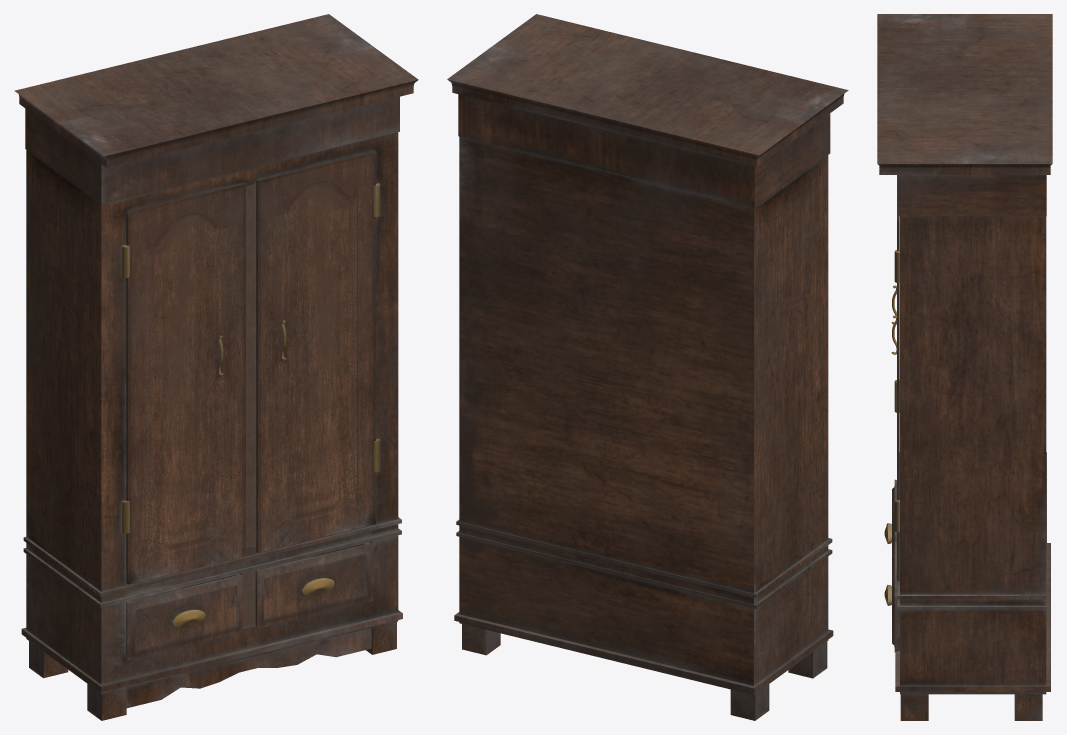
File: closet.gltf
3 renders of one model, left to right at view 1: azimuth 30°, elevation 25°; view 2: azimuth 150°, elevation 25°; view 3: azimuth 270°, elevation 25°, orthographic. The views are drawn at different scales.
Visible parts, largest first — view 1: D_TestMap_ClosetdrawerLeft4_lambert1_0; view 2: D_TestMap_ClosetdrawerLeft4_lambert1_0; view 3: D_TestMap_ClosetdrawerLeft4_lambert1_0.
Part boxes in pixels (left/top/right/bottom): D_TestMap_ClosetdrawerLeft4_lambert1_0: left=14, top=14, right=418, bottom=720; D_TestMap_ClosetdrawerLeft4_lambert1_0: left=447, top=14, right=848, bottom=720; D_TestMap_ClosetdrawerLeft4_lambert1_0: left=877, top=14, right=1052, bottom=720.
Bounding box in the file's own units: 11.25 × 19.65 × 5.57.
1 material, 1 textured.
